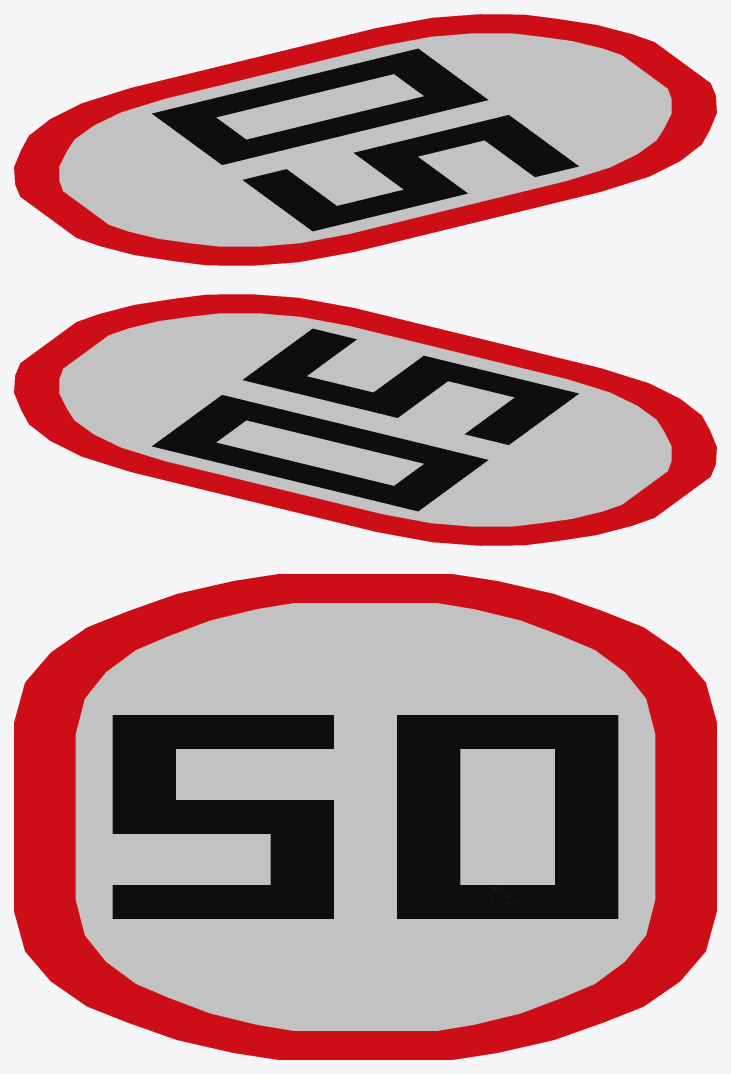
The model's file is SpeedLimitingSign50.fbx.
The picture shows the model from 3 angles, top to bottom: view 1: azimuth 30°, elevation 25°; view 2: azimuth 150°, elevation 25°; view 3: azimuth 270°, elevation 25°; orthographic projection. The views are drawn at different scales.
Visible parts, largest first — view 1: SpeedLimitSign, 평면.001; view 2: SpeedLimitSign, 평면.001; view 3: SpeedLimitSign, 평면.001.
Part boxes in pixels (bbox=[...]): SpeedLimitSign: bbox=[14, 14, 716, 265]; 평면.001: bbox=[152, 48, 578, 231]; SpeedLimitSign: bbox=[14, 294, 716, 545]; 평면.001: bbox=[152, 328, 578, 511]; SpeedLimitSign: bbox=[14, 574, 716, 1059]; 평면.001: bbox=[112, 715, 618, 918].
Size of the model in its own units: 25.19 by 5.34e-06 by 15.41.
